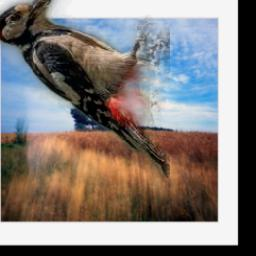Woodpecker: (0, 0, 170, 179)
